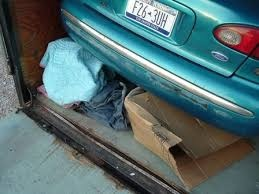Dent: (190, 21, 214, 45)
Scratch: (60, 13, 248, 138)
